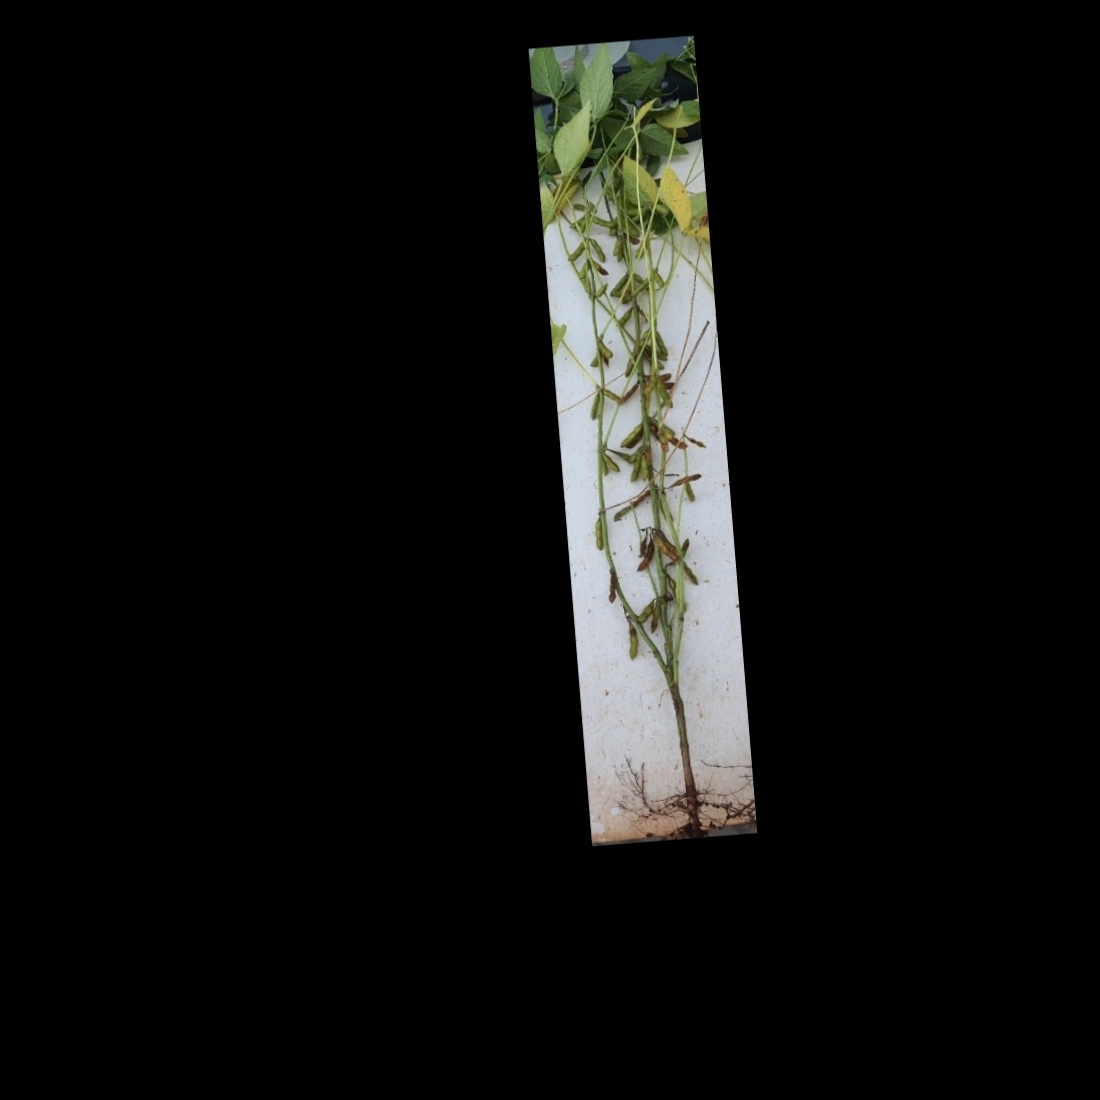pod: (631, 539, 658, 578), (616, 419, 647, 449), (626, 447, 647, 485), (638, 373, 665, 401), (607, 271, 632, 302), (623, 621, 641, 662), (587, 237, 610, 267), (588, 518, 607, 551), (634, 598, 657, 625), (587, 391, 605, 423), (601, 448, 621, 477), (565, 240, 587, 265), (589, 214, 620, 232), (598, 338, 615, 359)
soy: (531, 40, 746, 834)
